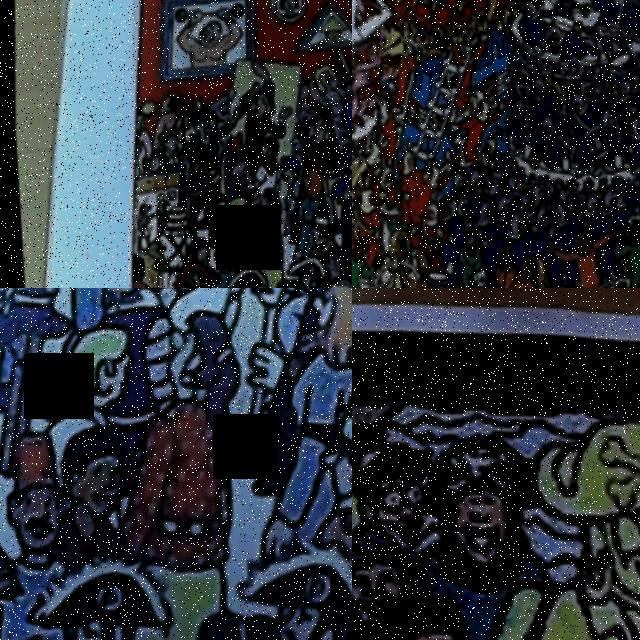waldo: (352, 429, 434, 564), (333, 498, 352, 631), (309, 243, 343, 285)
